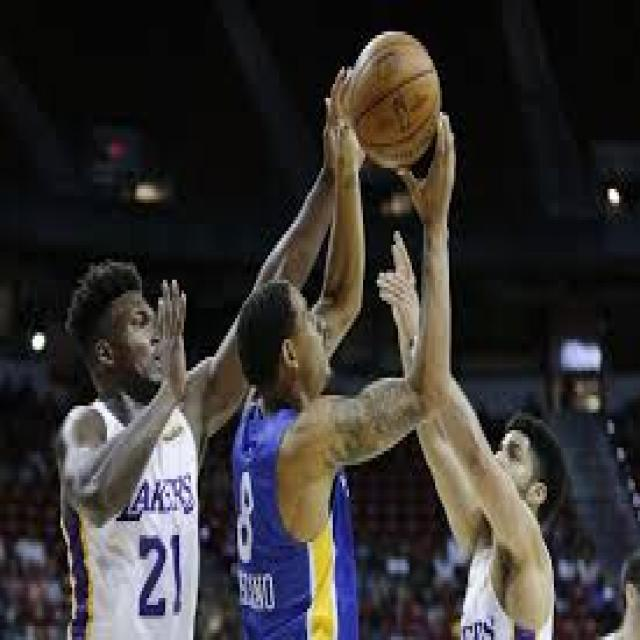rim: (353, 35, 438, 168)
